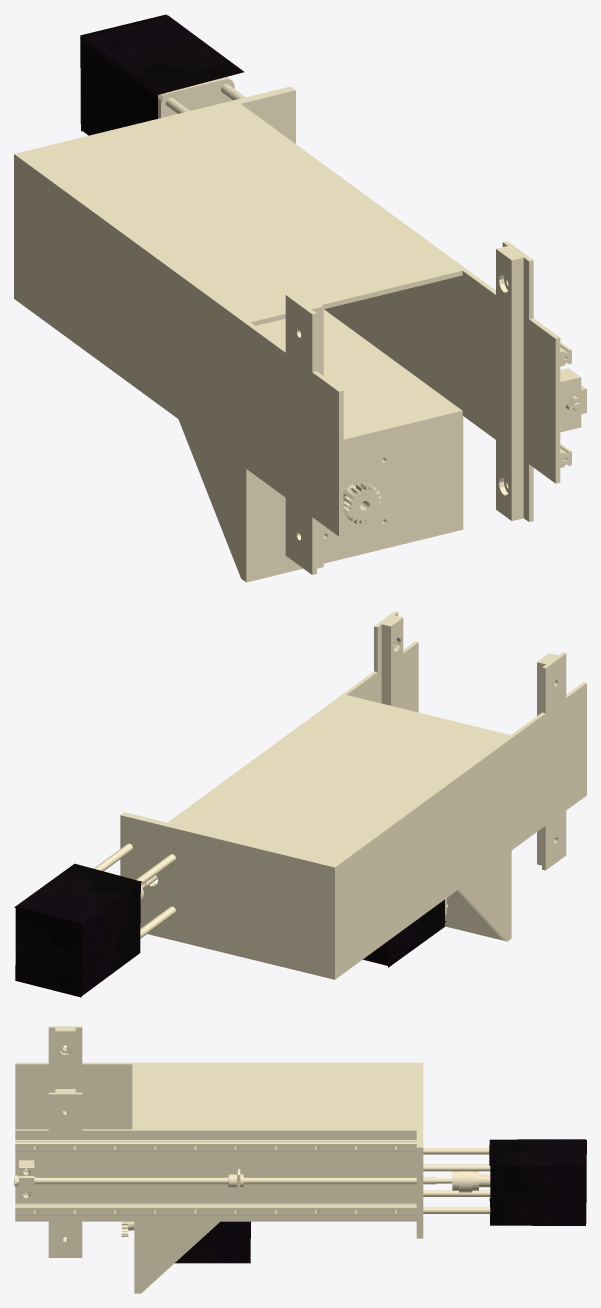
The model's file is Y_Motion.dae.
3 views of the same model, one above another, from view 1: azimuth 30°, elevation 25°; view 2: azimuth 150°, elevation 25°; view 3: azimuth 270°, elevation 25° (orthographic). The views are drawn at different scales.
Parts seen in each view (by area): view 1: Y_Motion, black.010, black.001; view 2: Y_Motion, black.005, black.001, black.010, black.009; view 3: Y_Motion, black.003, black.010, black.008.
Part boxes in pixels (left/top/right/bottom): Y_Motion: left=14, top=77, right=586, bottom=582; black.010: left=80, top=15, right=244, bottom=95; black.001: left=81, top=37, right=157, bottom=134; Y_Motion: left=94, top=611, right=586, bottom=979; black.005: left=15, top=906, right=81, bottom=997; black.001: left=81, top=881, right=140, bottom=994; black.010: left=14, top=863, right=142, bottom=925; black.009: left=388, top=899, right=444, bottom=967; Y_Motion: left=14, top=1026, right=490, bottom=1293; black.003: left=490, top=1165, right=586, bottom=1225; black.010: left=489, top=1140, right=586, bottom=1165; black.008: left=176, top=1221, right=248, bottom=1262.
Bounding box in the file's own units: 0.3076 × 0.8565 × 0.33.
Materials: 11 (10 with a texture image).
